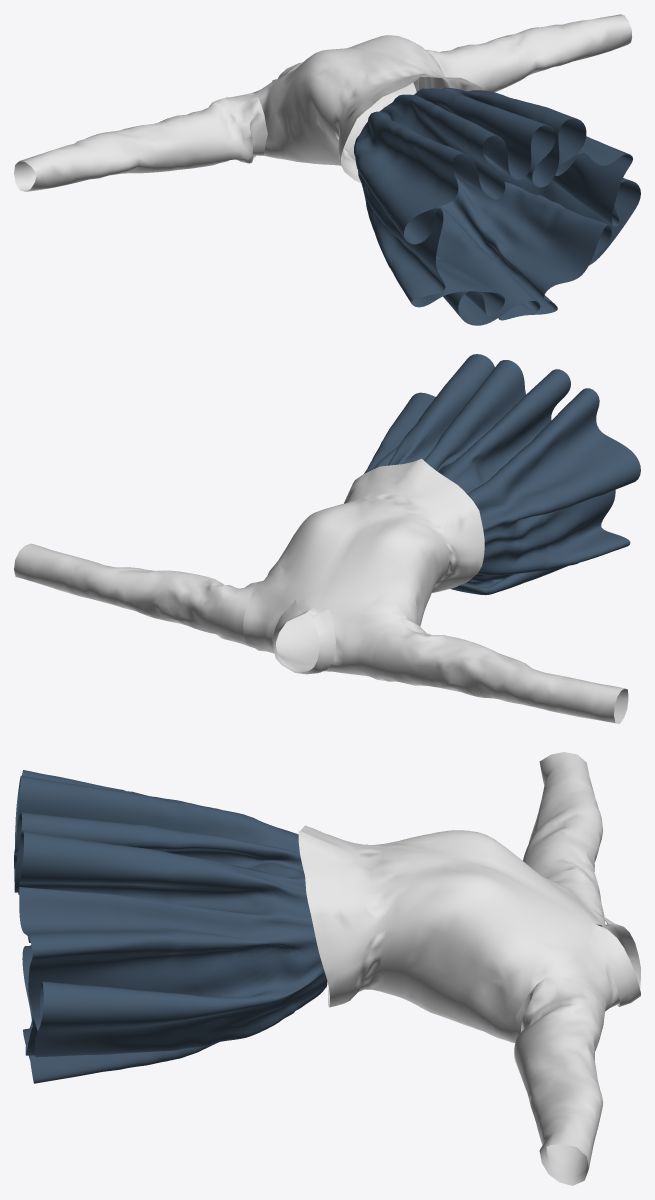
File: etek-gomlek.fbx
3 views of the same model, one above another, from view 1: azimuth 30°, elevation 25°; view 2: azimuth 150°, elevation 25°; view 3: azimuth 270°, elevation 25° (orthographic). The views are drawn at different scales.
Parts seen in each view (by area): view 1: skirt_school, shirt_collar; view 2: shirt_collar, skirt_school; view 3: skirt_school, shirt_collar.
Part boxes in pixels (x1=…): skirt_school: x1=354, y1=87, x2=640, y2=325; shirt_collar: x1=14, y1=14, x2=631, y2=191; shirt_collar: x1=14, y1=458, x2=628, y2=723; skirt_school: x1=364, y1=354, x2=640, y2=595; skirt_school: x1=14, y1=770, x2=327, y2=1083; shirt_collar: x1=298, y1=752, x2=640, y2=1185.
Size of the model in its own units: 132 by 41.1 by 88.83.
